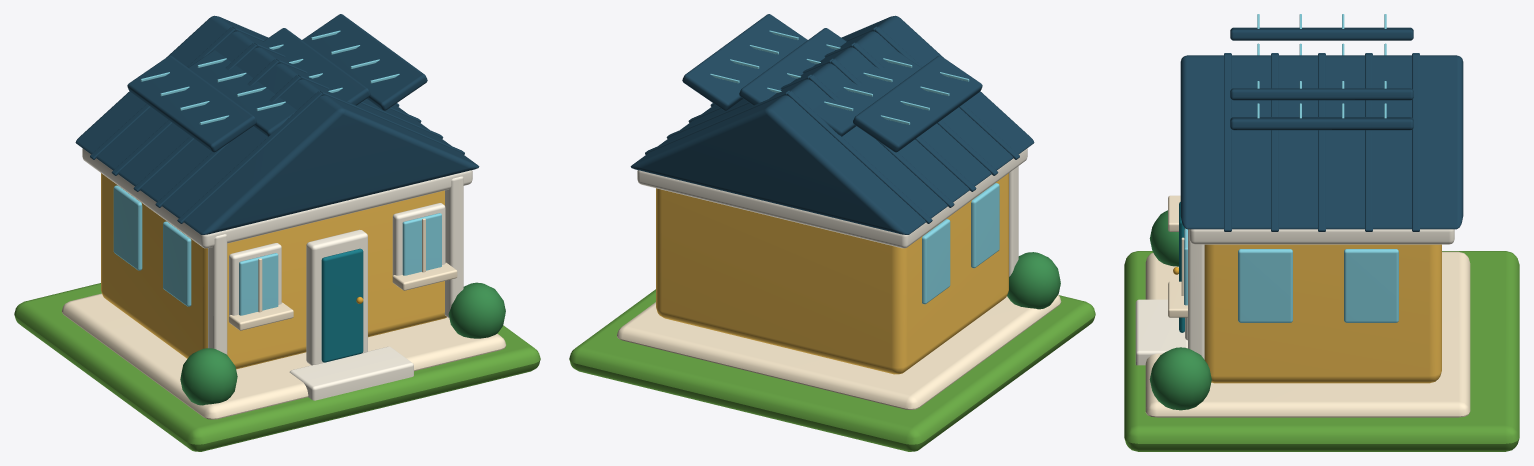
File: energy.fbx
3 renders of one model, left to right at view 1: azimuth 30°, elevation 25°; view 2: azimuth 150°, elevation 25°; view 3: azimuth 270°, elevation 25°, orthographic. The views are drawn at different scales.
Parts seen in each view (by area): view 1: Roof.006, Plaster facade.006, Raised garden plot.006, Paved foundation.006, Photovoltaic array, Photovoltaic array.003, Cornice.006, Entrance.006, Entrance step.006, Door frame.006, Photovoltaic array.001, Photovoltaic array.002 (+17 smaller); view 2: Plaster facade.006, Roof.006, Raised garden plot.006, Paved foundation.006, Photovoltaic array, Cornice.006, Photovoltaic array.003, Photovoltaic array.001, Photovoltaic array.002, Clipped shrub.012, Side window.024, Side window.025 (+6 smaller); view 3: Roof.006, Raised garden plot.006, Plaster facade.006, Paved foundation.006, Cornice.006, Side window.026, Side window.027, Clipped shrub.013, Photovoltaic array.003, Photovoltaic array, Entrance step.006, Photovoltaic array.002 (+9 smaller).
Boxes of the visible parts, x1=… form: Roof.006: x1=75, y1=15, x2=479, y2=234; Plaster facade.006: x1=101, y1=173, x2=446, y2=369; Raised garden plot.006: x1=14, y1=283, x2=540, y2=451; Paved foundation.006: x1=62, y1=293, x2=506, y2=419; Photovoltaic array: x1=127, y1=55, x2=256, y2=152; Photovoltaic array.003: x1=302, y1=14, x2=427, y2=110; Cornice.006: x1=82, y1=148, x2=472, y2=248; Entrance.006: x1=321, y1=248, x2=363, y2=362; Entrance step.006: x1=289, y1=346, x2=413, y2=400; Door frame.006: x1=306, y1=229, x2=367, y2=365; Photovoltaic array.001: x1=188, y1=50, x2=296, y2=136; Photovoltaic array.002: x1=263, y1=28, x2=370, y2=105; Plaster facade.006: x1=656, y1=173, x2=1008, y2=374; Roof.006: x1=630, y1=15, x2=1034, y2=234; Raised garden plot.006: x1=569, y1=289, x2=1095, y2=451; Paved foundation.006: x1=617, y1=295, x2=1061, y2=409; Photovoltaic array: x1=853, y1=55, x2=982, y2=152; Cornice.006: x1=637, y1=148, x2=1027, y2=248; Photovoltaic array.003: x1=682, y1=14, x2=807, y2=110; Photovoltaic array.001: x1=813, y1=50, x2=921, y2=136; Photovoltaic array.002: x1=739, y1=28, x2=846, y2=105; Clipped shrub.012: x1=1007, y1=252, x2=1060, y2=309; Side window.024: x1=971, y1=183, x2=999, y2=268; Side window.025: x1=922, y1=219, x2=950, y2=304; Roof.006: x1=1180, y1=55, x2=1463, y2=229; Raised garden plot.006: x1=1124, y1=251, x2=1519, y2=451; Plaster facade.006: x1=1204, y1=244, x2=1441, y2=383; Paved foundation.006: x1=1145, y1=251, x2=1470, y2=417; Cornice.006: x1=1189, y1=229, x2=1454, y2=244; Side window.026: x1=1238, y1=249, x2=1292, y2=322; Side window.027: x1=1344, y1=249, x2=1398, y2=322; Clipped shrub.013: x1=1149, y1=347, x2=1211, y2=410; Photovoltaic array.003: x1=1230, y1=117, x2=1413, y2=130; Photovoltaic array: x1=1230, y1=27, x2=1413, y2=40; Entrance step.006: x1=1135, y1=299, x2=1187, y2=365; Photovoltaic array.002: x1=1230, y1=88, x2=1413, y2=100.
Size of the model in its own units: 3.1 by 2.43 by 2.8.
